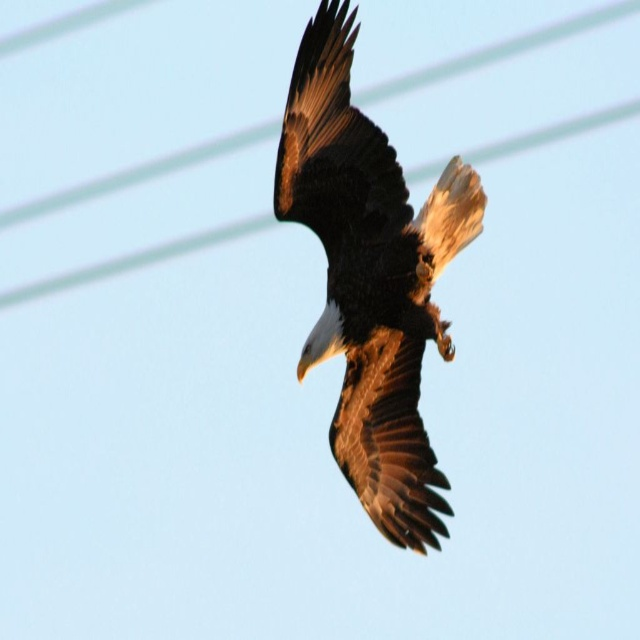Eagle: (268, 0, 486, 558)
